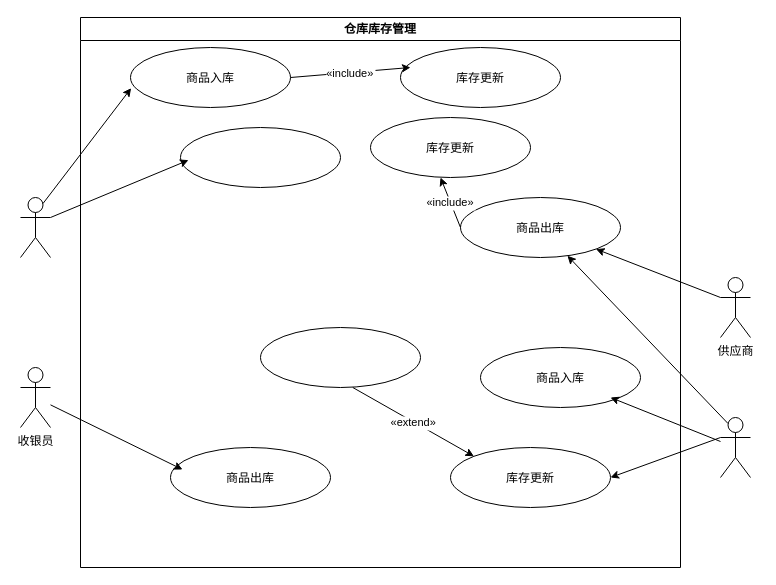
This 776x585 diagram has some shape labels left out. Each missing label, with the centre of its shape:
"库存查询" belongs at point 260,157.
"库存系统" belongs at point 735,447.
"库存预警" belongs at point 340,357.
"管理员" belongs at point 35,227.
